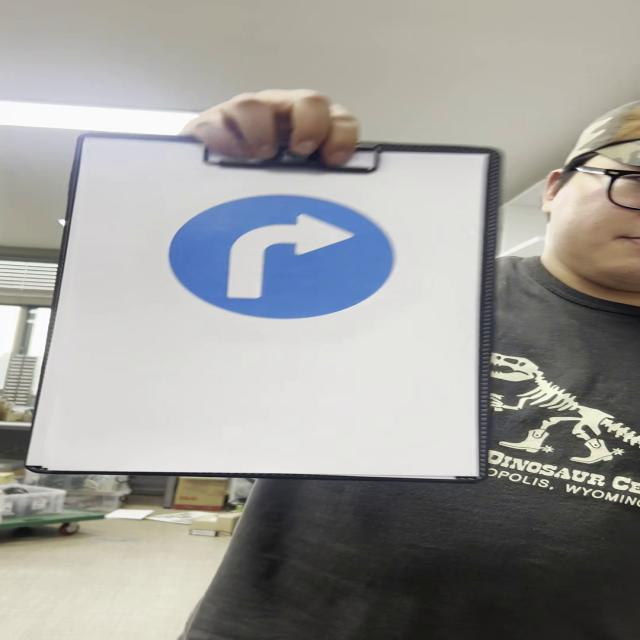right: (169, 194, 393, 321)
